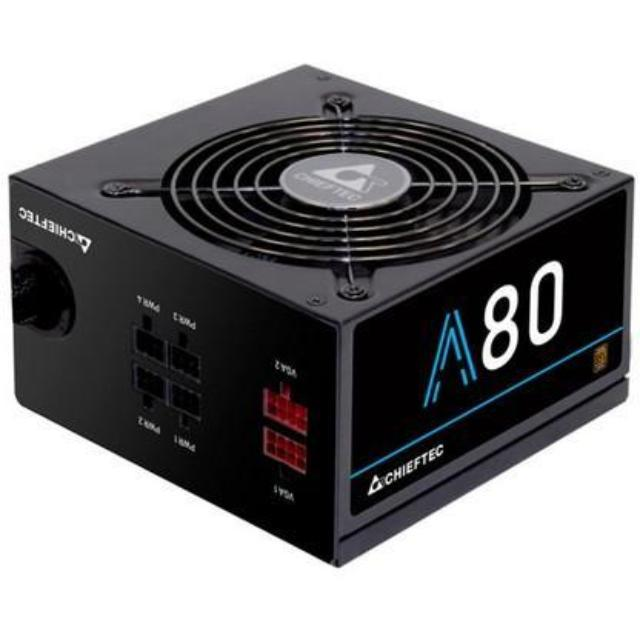PSU: (0, 42, 640, 590)
